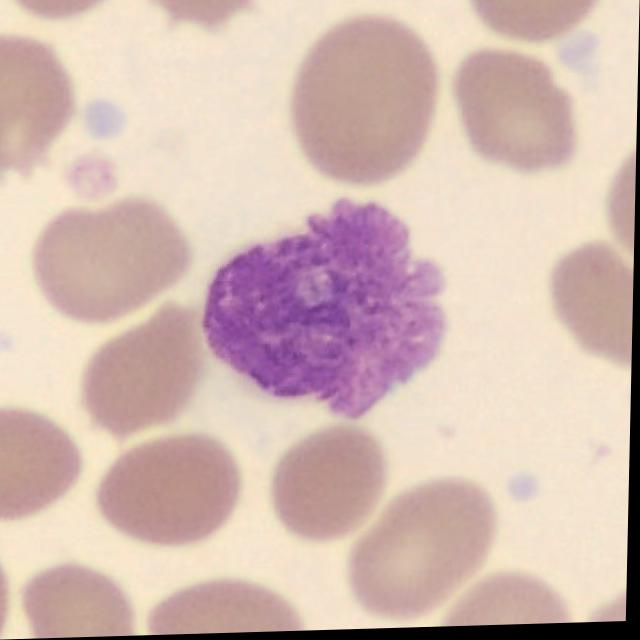Restos celulares: (203, 205, 448, 423)
